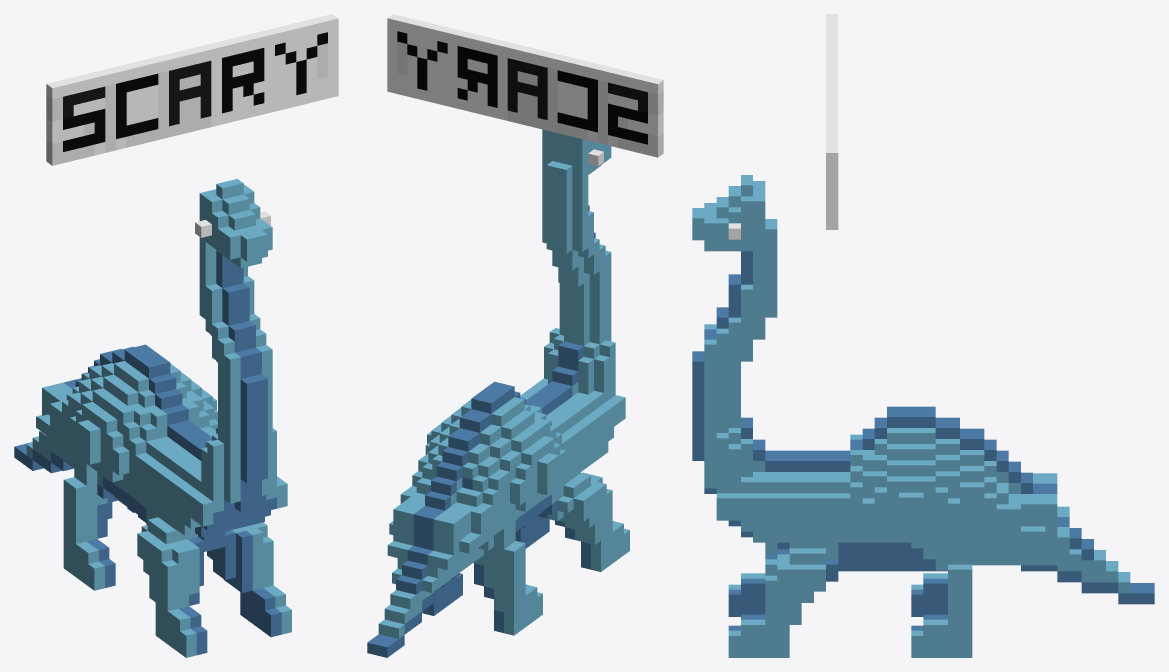
Rendered from dino-q4-b.obj.
The picture shows the model from 3 angles, left to right: view 1: azimuth 30°, elevation 25°; view 2: azimuth 150°, elevation 25°; view 3: azimuth 270°, elevation 25°; orthographic projection. The views are drawn at different scales.
Parts seen in each view (by area): view 1: Matrix_37; view 2: Matrix_37; view 3: Matrix_37.
Boxes of the visible parts, bbox=[...] form: Matrix_37: bbox=[14, 14, 338, 657]; Matrix_37: bbox=[367, 14, 663, 657]; Matrix_37: bbox=[692, 14, 1154, 657].
Bounding box in the file's own units: 27 × 50 × 38.
Materials: 1 (1 with a texture image).
